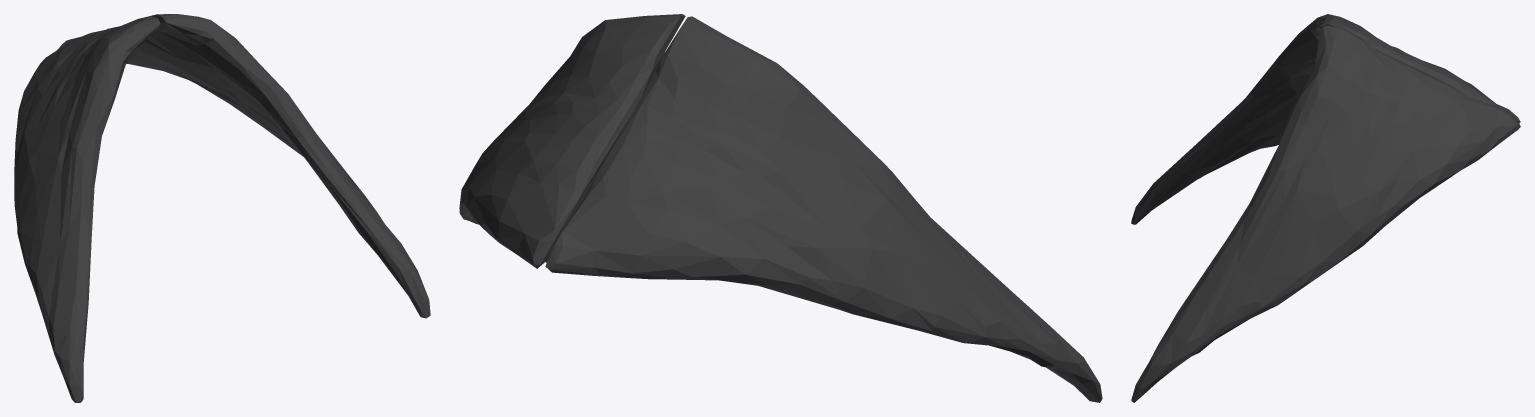
Rendered from m_trapezius_thoracic.glb.
3 views of the same model, side by side, from view 1: azimuth 30°, elevation 25°; view 2: azimuth 150°, elevation 25°; view 3: azimuth 270°, elevation 25° (orthographic). The views are drawn at different scales.
Visible parts, largest first — view 1: m_trapezius_thoracic; view 2: m_trapezius_thoracic; view 3: m_trapezius_thoracic.
Boxes of the visible parts, <box> form: m_trapezius_thoracic: <box>14,14,430,402</box>; m_trapezius_thoracic: <box>459,14,1102,402</box>; m_trapezius_thoracic: <box>1131,14,1520,402</box>.
Bounding box in the file's own units: 0.00515 × 0.00374 × 0.00459.
1 material, 1 textured.
